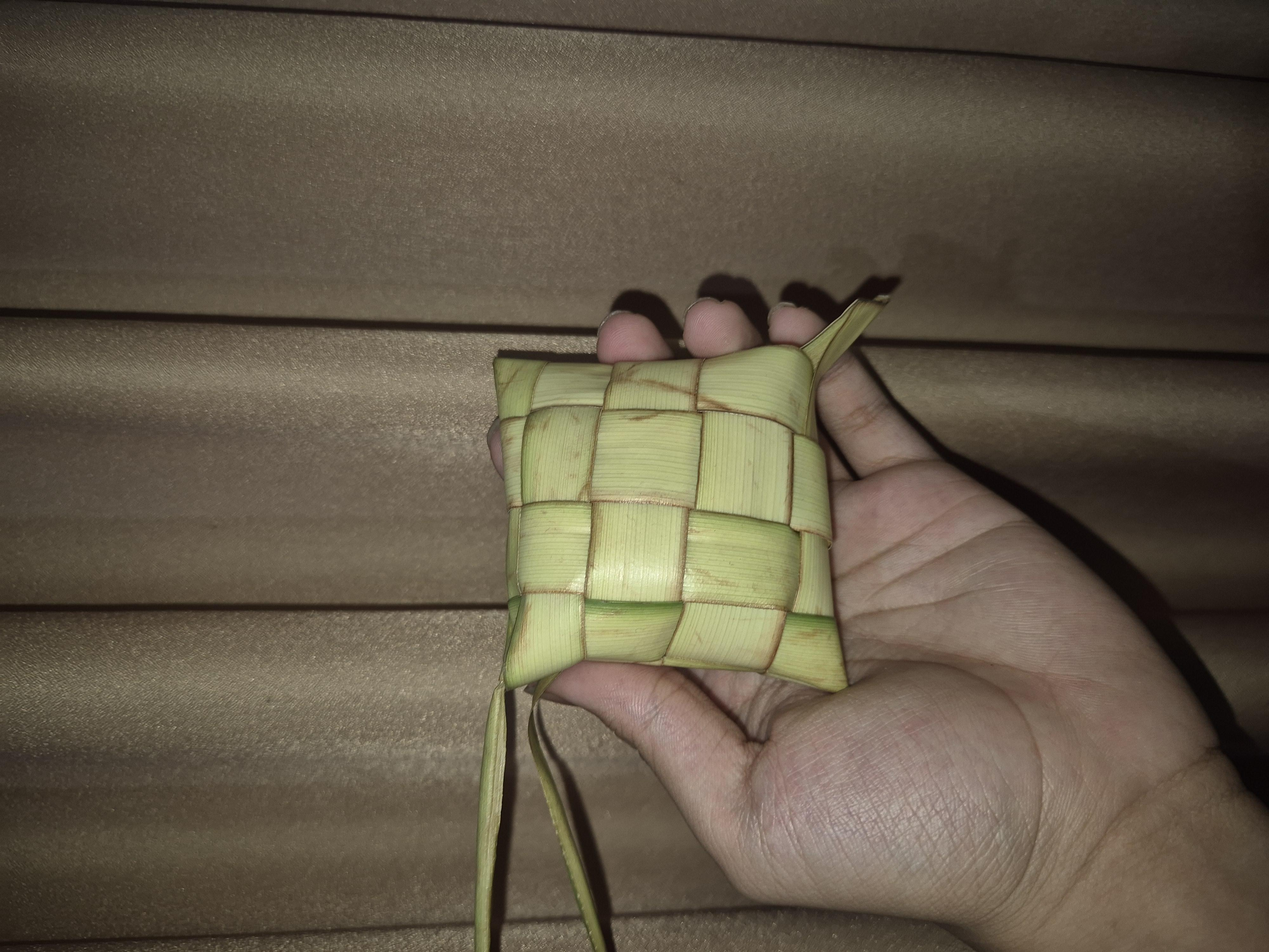Tipat Nasi: (348, 372, 808, 635)
